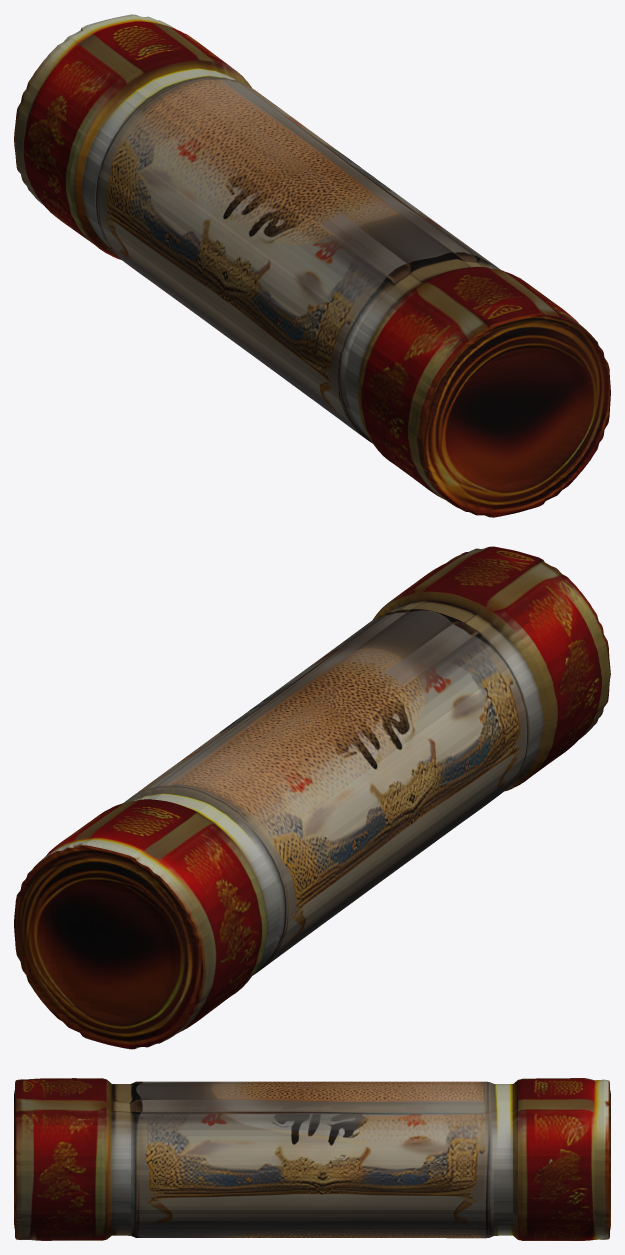
The model's file is prop.glb.
3 views of the same model, one above another, from view 1: azimuth 30°, elevation 25°; view 2: azimuth 150°, elevation 25°; view 3: azimuth 270°, elevation 25° (orthographic). The views are drawn at different scales.
Parts seen in each view (by area): view 1: geometry_0; view 2: geometry_0; view 3: geometry_0.
Boxes of the visible parts, <box> form: geometry_0: <box>14,14,610,517</box>; geometry_0: <box>14,546,610,1049</box>; geometry_0: <box>14,1078,610,1240</box>.
Size of the model in its own units: 0.5429 by 0.5339 by 1.96.
1 material, 1 textured.
